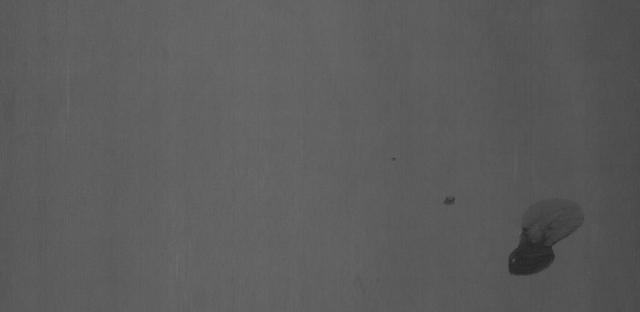oil_spot: (503, 193, 589, 281), (438, 191, 457, 210)
